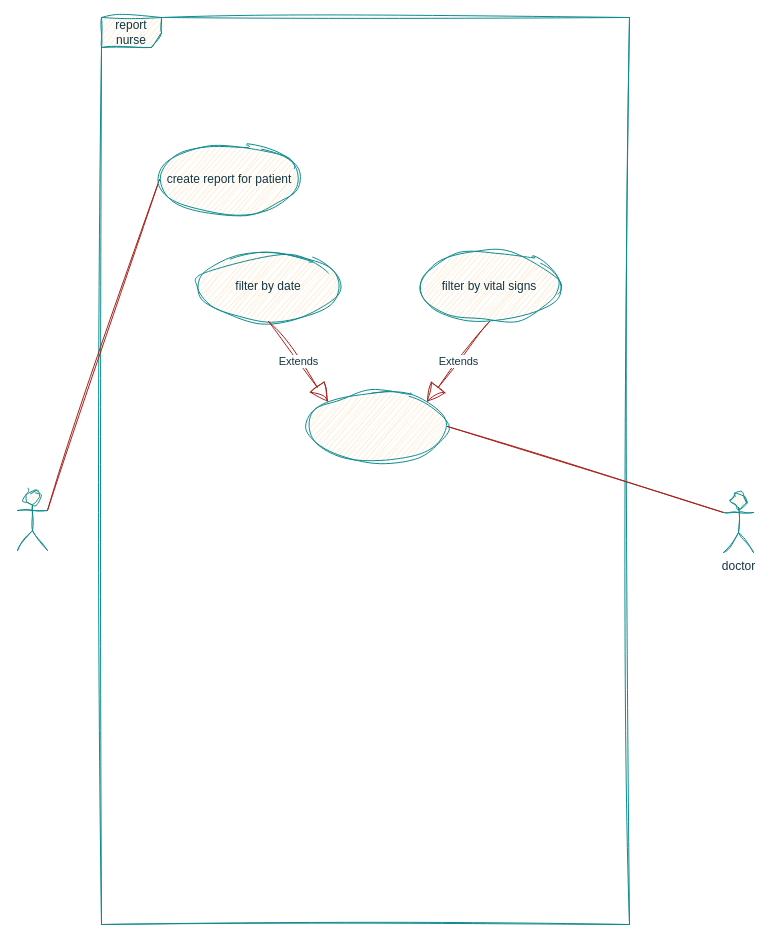
This 772x942 diagram has some shape labels left out. The shapes that lost their labels are listed below. From the top down, each one's box as (x1, y1, x2, y2) in pixels, then its label:
(306, 390, 448, 462): show report list for patinet
(16, 490, 48, 550): nurse
